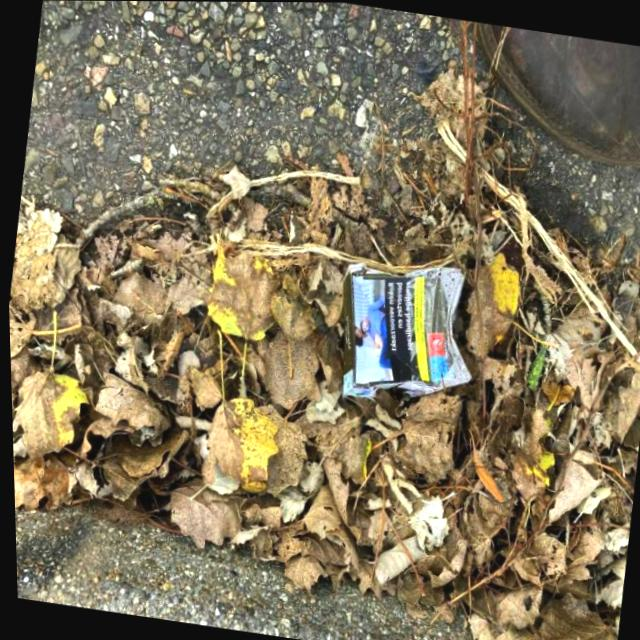Paper: (322, 248, 486, 417)
